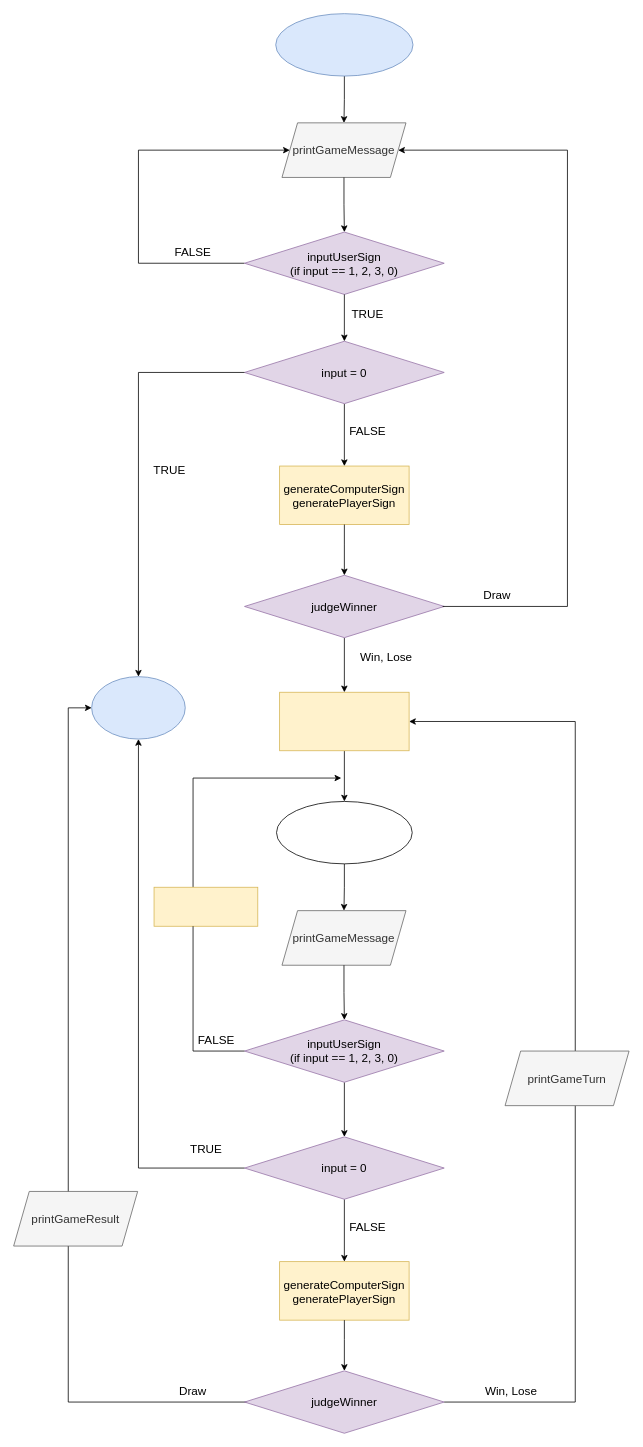
Some shapes in this 643 by 1447 pixel diagram are drawn without their labels. The centre of each missing label's shape, as x and y in pixels:
decideGameTurn: pixel 344 44
endGame: pixel 138 707
gameStrat: pixel 344 832
turn = computer: pixel 205 906
turn = winner: pixel 344 721
